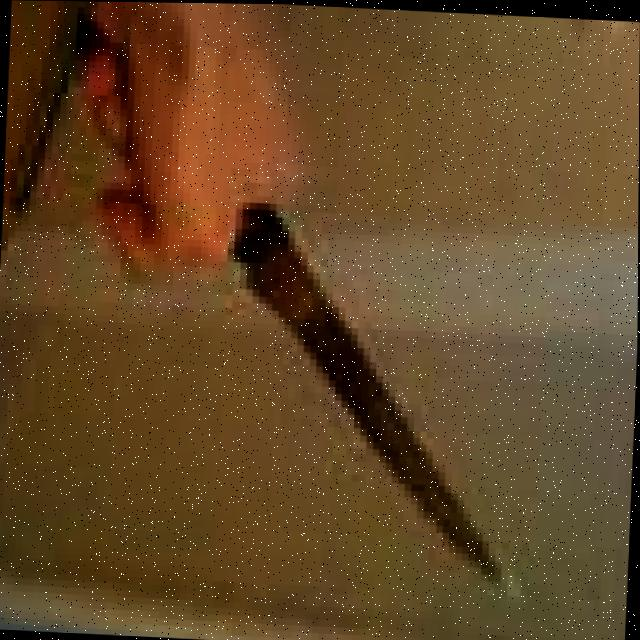knife: (213, 199, 522, 588)
